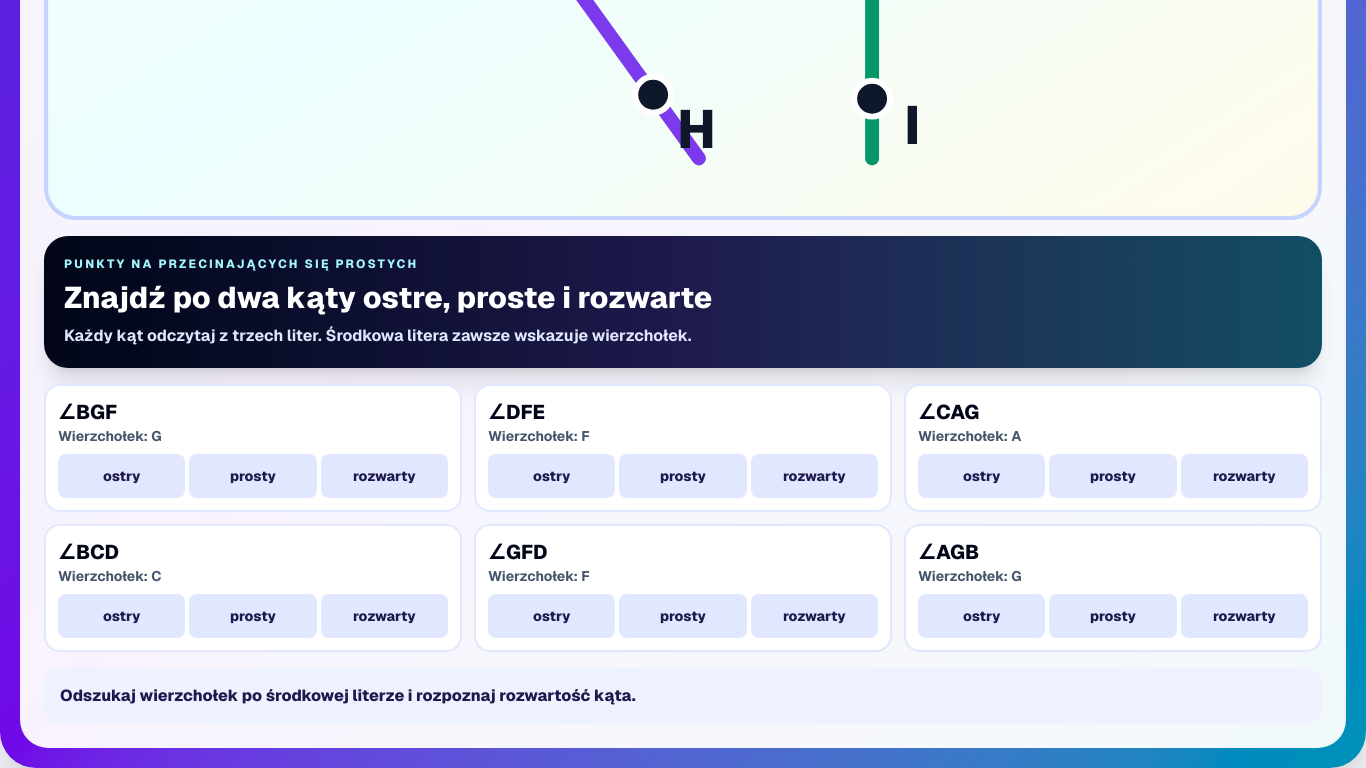
Test case: M5-4.2 — rozpoznawanie kątów › wyszukuje w układzie prostych po dwa kąty ostre, proste i rozwarte
(page scrolled)
expect the heading "Znajdź po dwa kąty ostre, proste i rozwarte" is shown: met, box [64, 278, 712, 317]
Click the button "rozwarty" below "∠BGF" at (384, 476), box [321, 454, 448, 498]
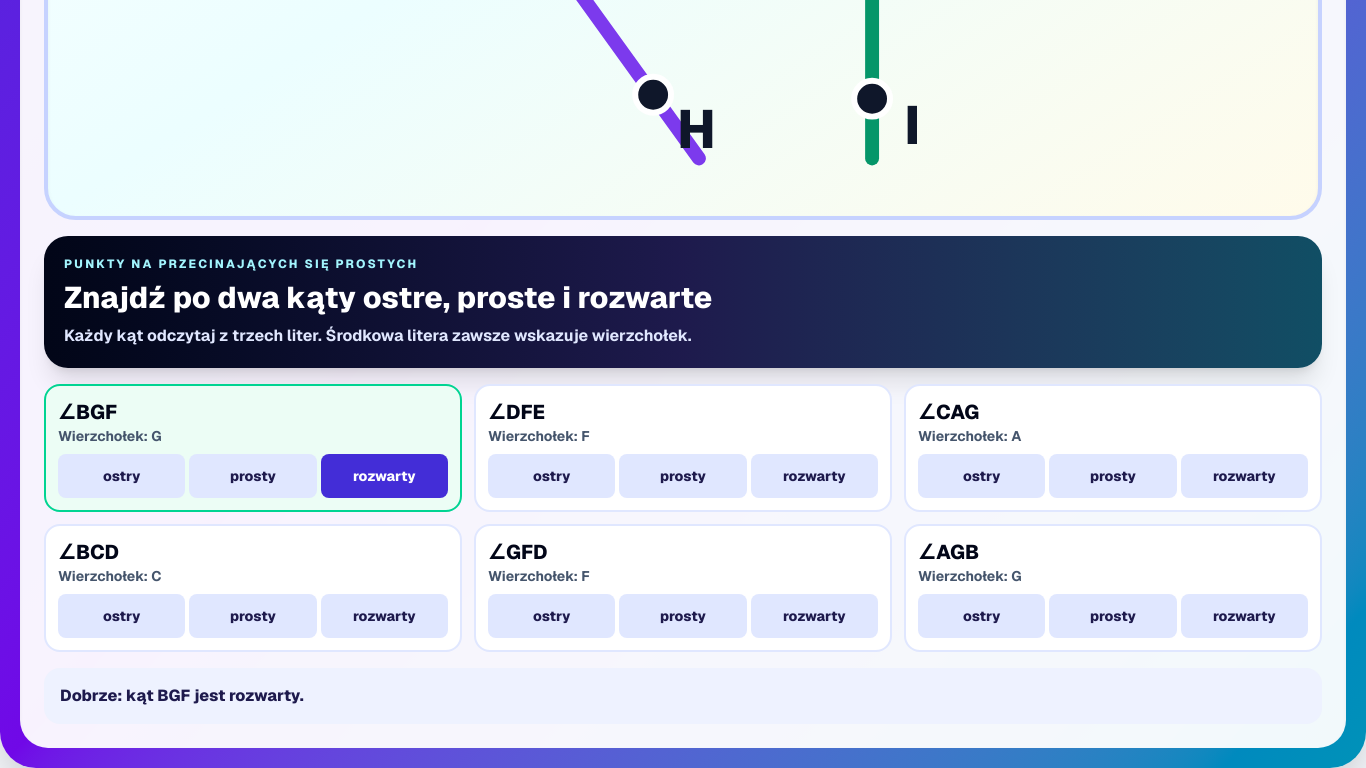
Click the button "prosty" below "∠DFE" at (683, 476), box [619, 454, 747, 498]
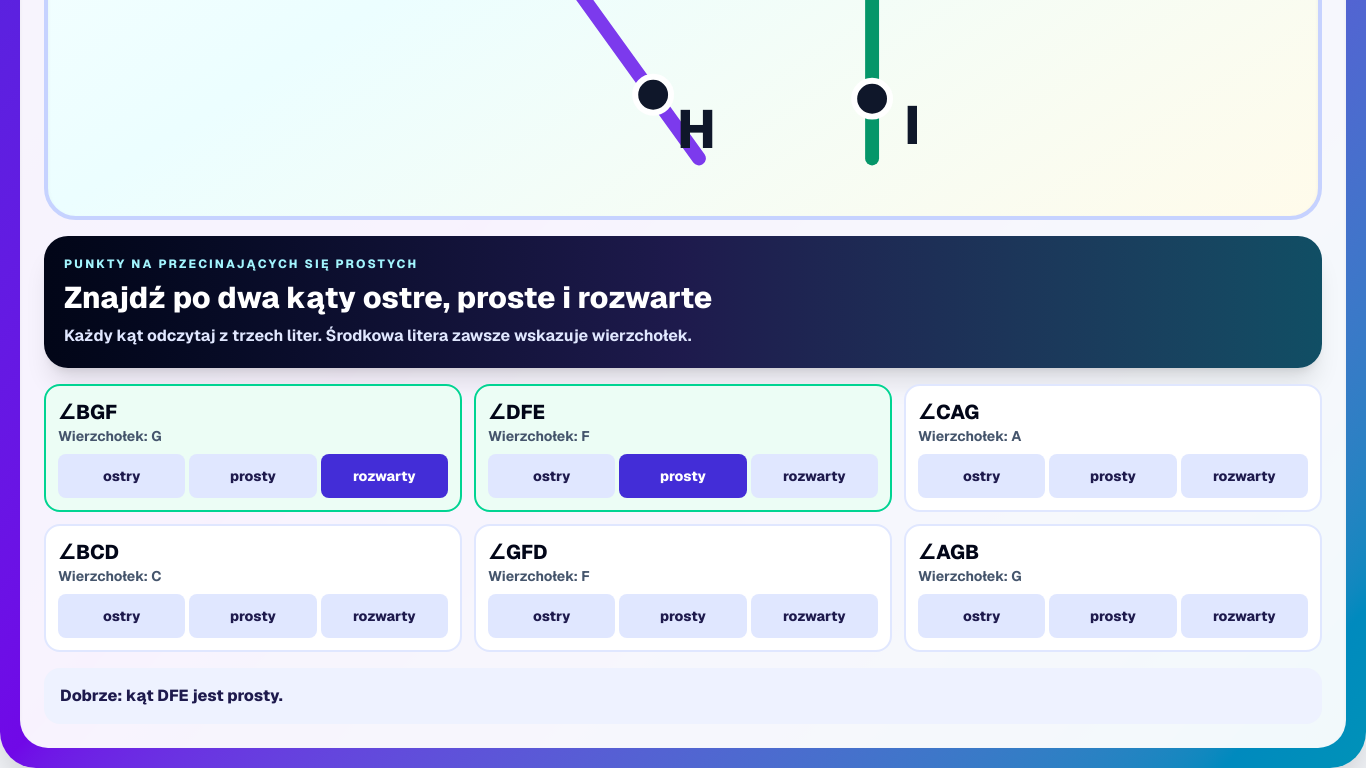
Click the button "ostry" below "∠CAG" at (982, 476), box [918, 454, 1045, 498]
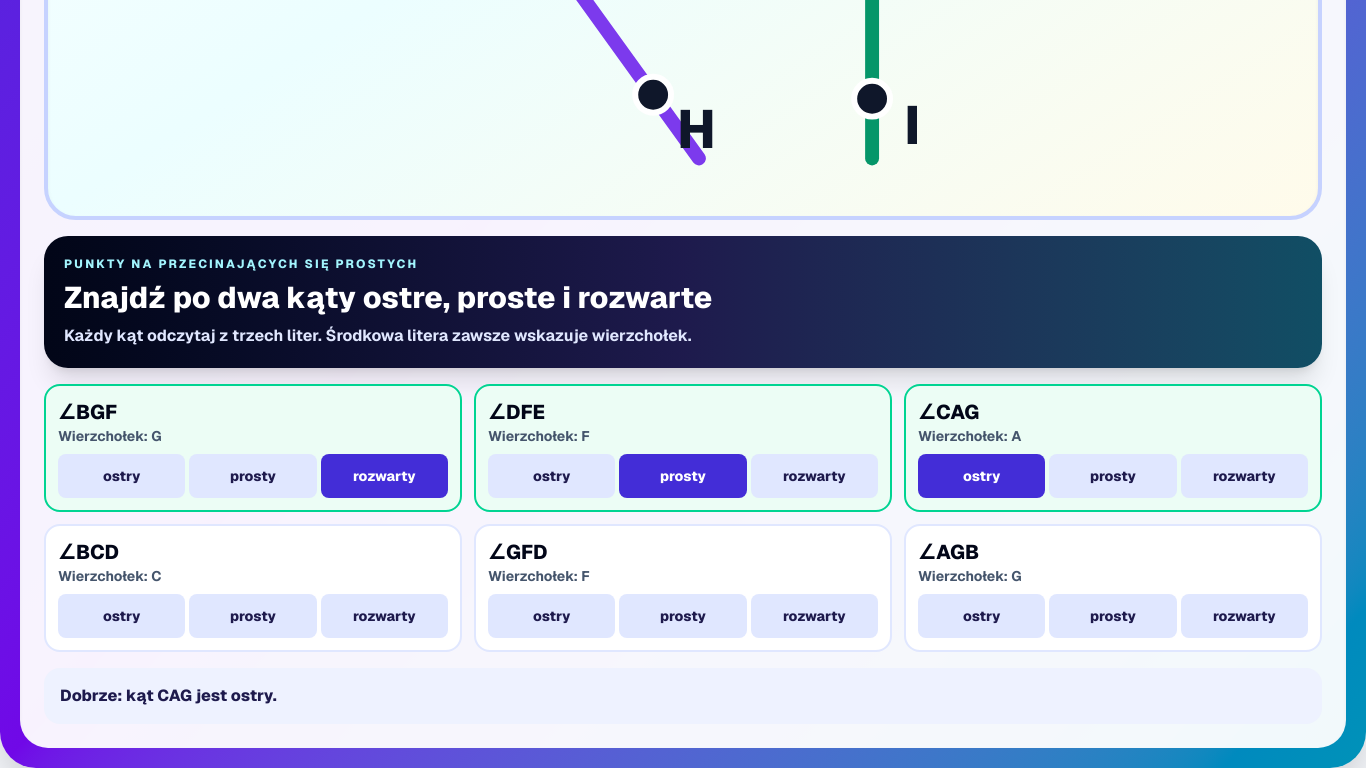
Click the button "rozwarty" below "∠BCD" at (384, 616), box [321, 594, 448, 638]
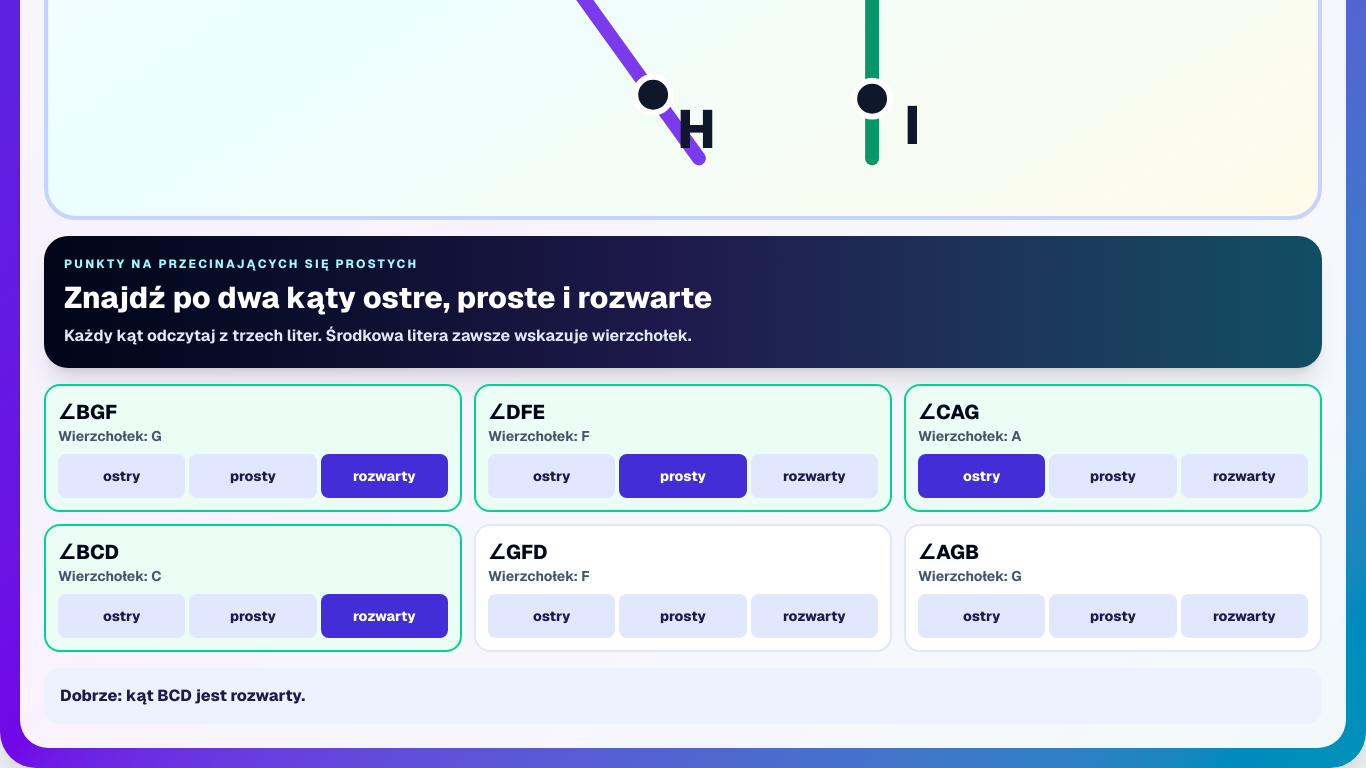
Click the button "prosty" below "∠GFD" at (683, 616), box [619, 594, 747, 638]
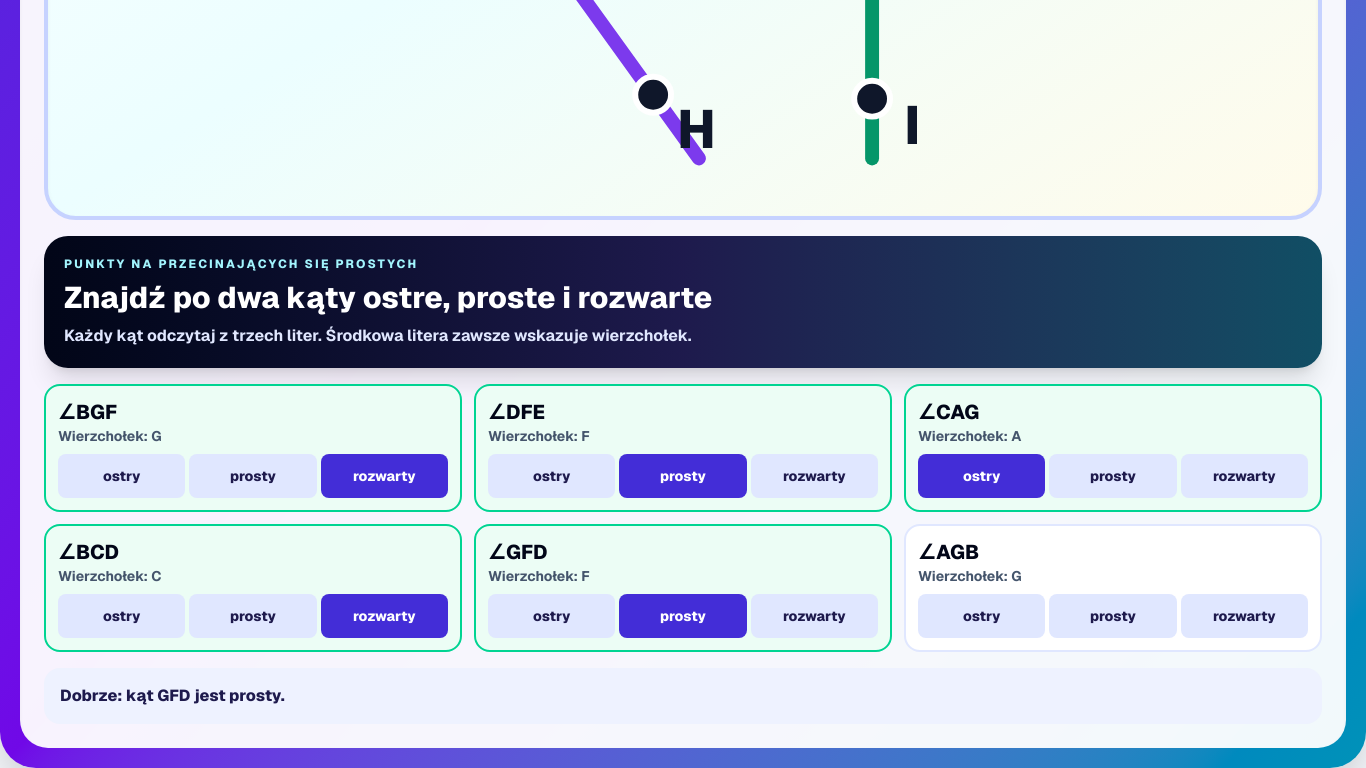
Click the button "ostry" below "∠AGB" at (982, 616), box [918, 594, 1045, 638]
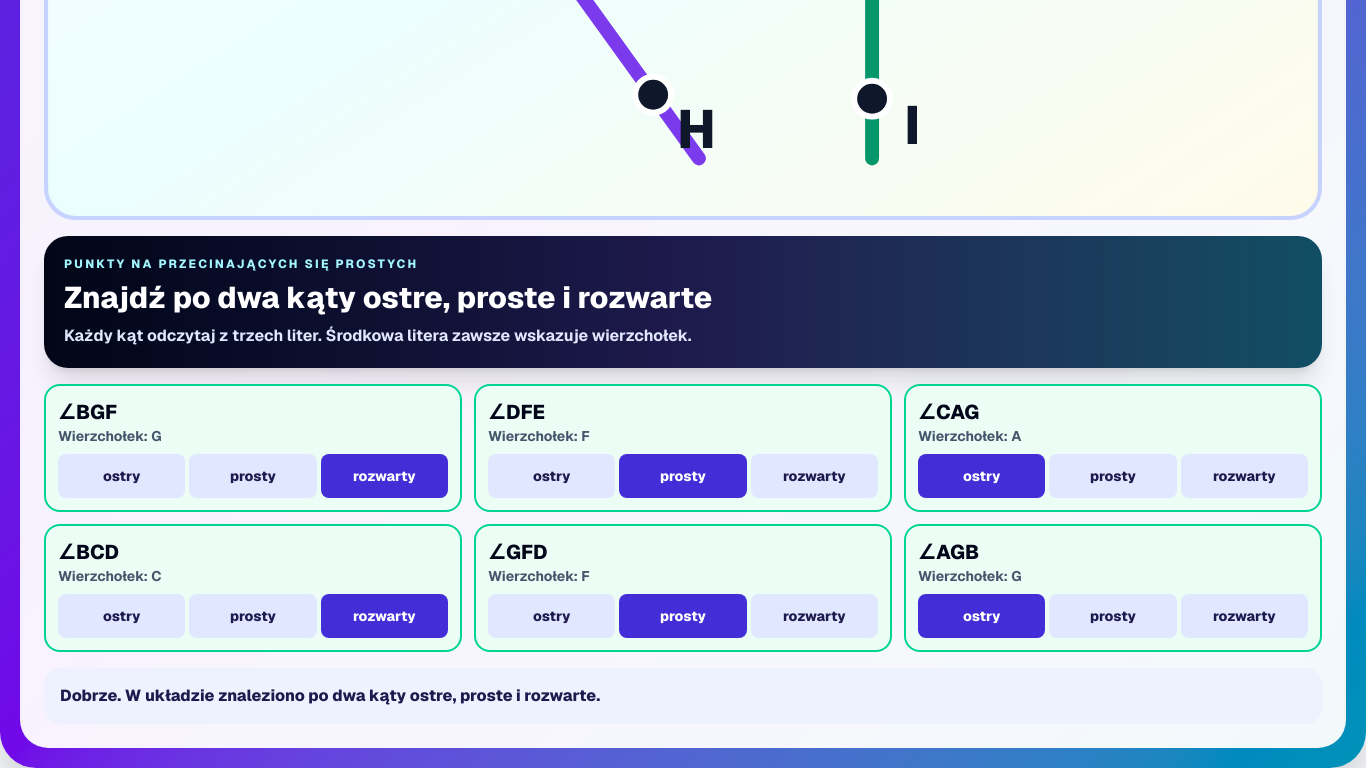
expect the message shows "po dwa kąty ostre, proste i rozwarte": met, box [60, 685, 600, 706]
